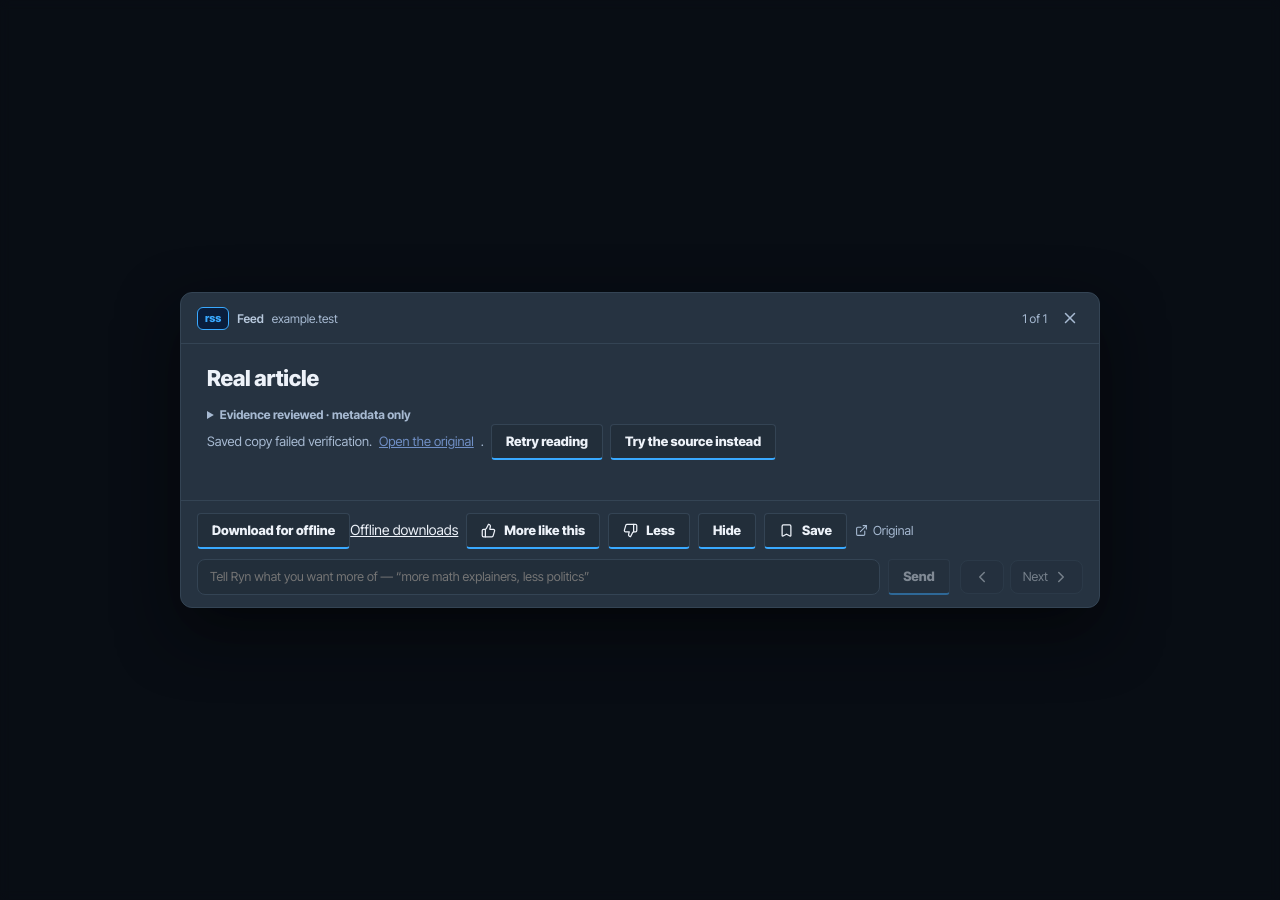
Scenario: does not bypass a corrupt saved copy without an explicit source action
This screenshot has width=1280, height=900.
Check: the text "Saved copy failed verification" is shown, box [207, 433, 372, 449]
Click the button "Try the source instead": (693, 442) [610, 424, 776, 460]
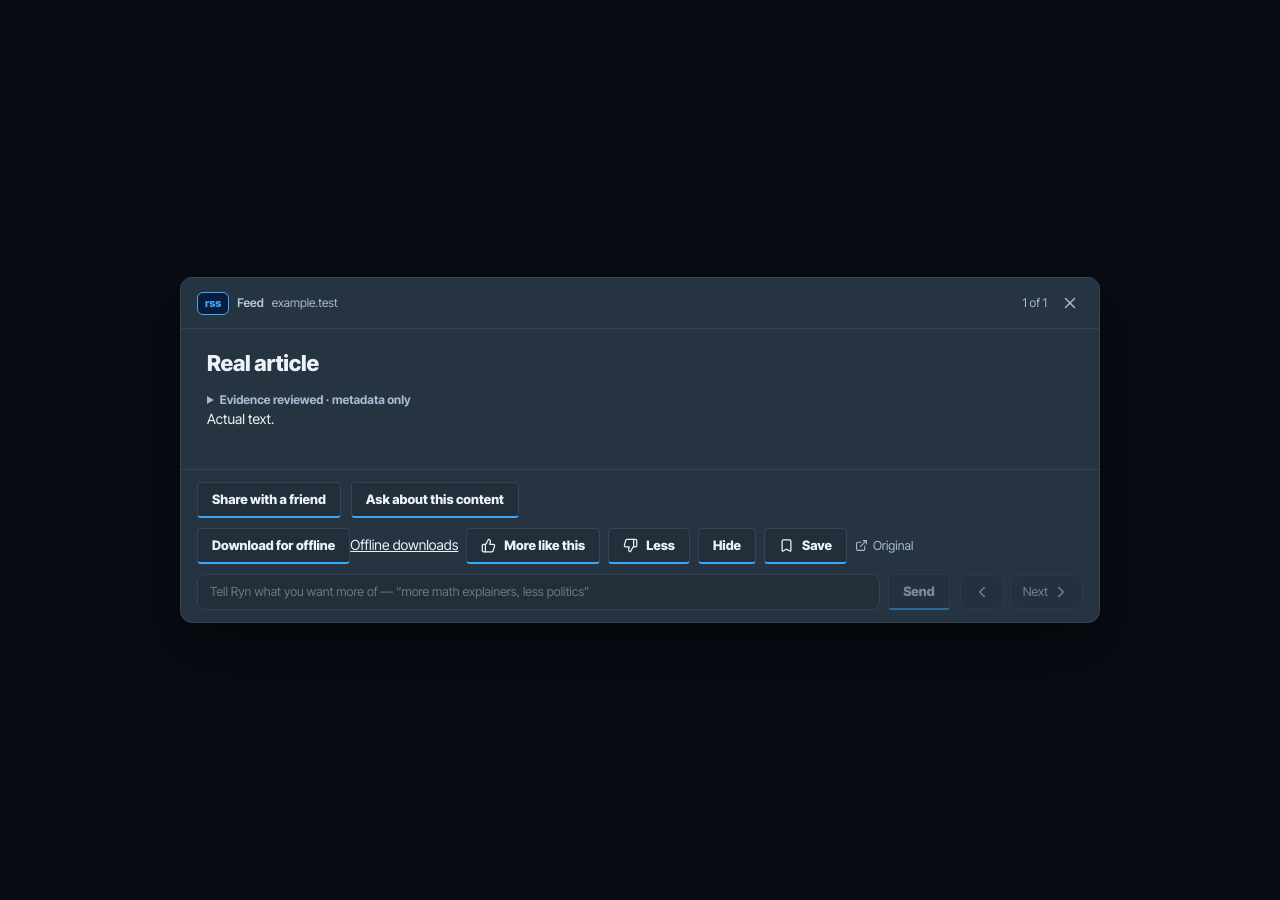
Check: the text "Actual text." is shown, box [207, 410, 274, 427]
